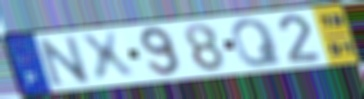2: (277, 12, 325, 65)
8: (183, 22, 226, 72)
9: (139, 25, 183, 80)
N: (34, 34, 94, 89)
Q: (229, 17, 286, 69)
X: (76, 30, 139, 85)
